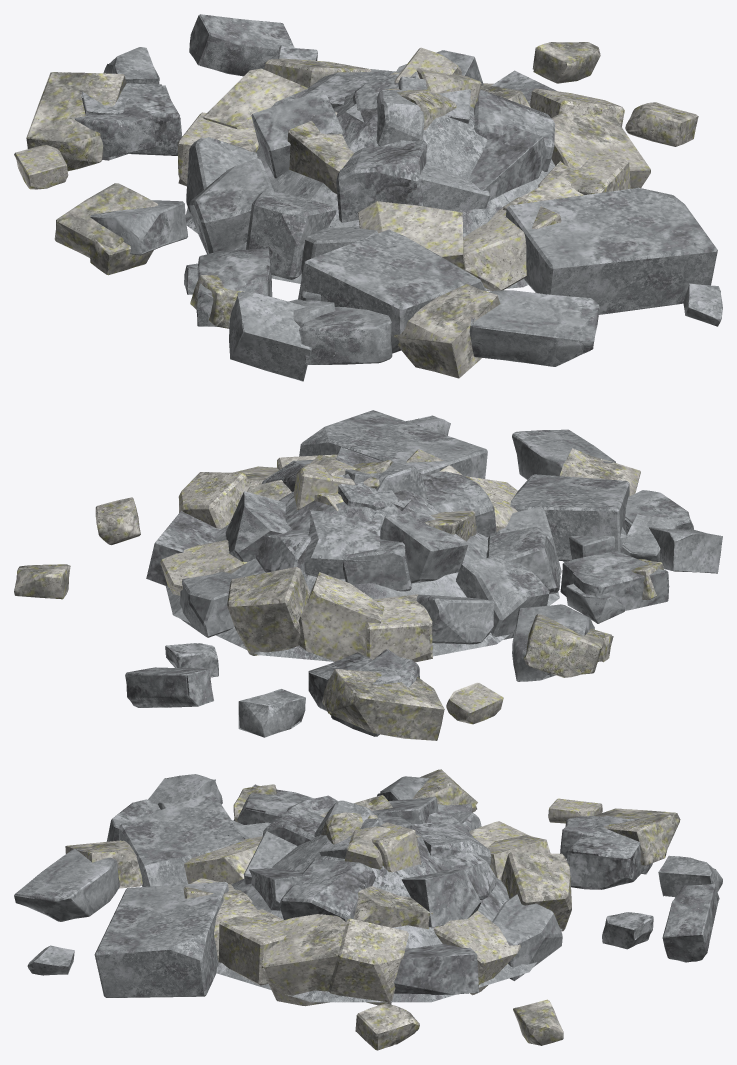
Rendered from cima-gran-eriste.glb.
3 views of the same model, one above another, from view 1: azimuth 30°, elevation 25°; view 2: azimuth 150°, elevation 25°; view 3: azimuth 270°, elevation 25° (orthographic). The views are drawn at different scales.
Parts seen in each view (by area): view 1: hito_granito_gris, hito_granito_liquen, bloque9, bloque10, bloque5, bloque11, bloque14, bloque4, bloque13, bloque16, bloque19, bloque3 (+9 smaller); view 2: hito_granito_gris, hito_granito_liquen, bloque10, bloque19, bloque13, bloque14, bloque9, bloque11, bloque8, bloque16, bloque12, bloque15 (+10 smaller); view 3: hito_granito_gris, hito_granito_liquen, bloque9, bloque3, bloque14, bloque10, bloque20, bloque8, bloque5, bloque12, bloque19, bloque2 (+8 smaller).
Part boxes in pixels (x1=…): hito_granito_gris: x1=185, y1=50, x2=717, y2=353; hito_granito_liquen: x1=177, y1=47, x2=650, y2=290; bloque9: x1=469, y1=290, x2=599, y2=366; bloque10: x1=26, y1=72, x2=126, y2=171; bloque5: x1=393, y1=283, x2=500, y2=378; bloque11: x1=229, y1=291, x2=311, y2=381; bloque14: x1=189, y1=14, x2=294, y2=76; bloque4: x1=299, y1=307, x2=392, y2=365; bloque13: x1=54, y1=183, x2=158, y2=257; bloque16: x1=90, y1=200, x2=187, y2=255; bloque19: x1=196, y1=248, x2=272, y2=326; bloque3: x1=81, y1=83, x2=182, y2=155; hito_granito_gris: x1=146, y1=410, x2=629, y2=661; hito_granito_liquen: x1=160, y1=449, x2=517, y2=662; bloque10: x1=322, y1=669, x2=444, y2=740; bloque19: x1=560, y1=551, x2=669, y2=610; bloque13: x1=523, y1=614, x2=604, y2=677; bloque14: x1=125, y1=667, x2=213, y2=707; bloque9: x1=512, y1=429, x2=615, y2=479; bloque11: x1=649, y1=527, x2=722, y2=573; bloque8: x1=238, y1=689, x2=305, y2=737; bloque16: x1=512, y1=604, x2=594, y2=681; bloque12: x1=14, y1=564, x2=70, y2=599; bloque15: x1=446, y1=682, x2=503, y2=724; hito_granito_gris: x1=94, y1=792, x2=562, y2=1002; hito_granito_liquen: x1=183, y1=795, x2=571, y2=1006; bloque9: x1=14, y1=849, x2=119, y2=921; bloque3: x1=566, y1=815, x2=644, y2=889; bloque14: x1=662, y1=884, x2=719, y2=962; bloque10: x1=594, y1=808, x2=680, y2=865; bloque20: x1=355, y1=1003, x2=419, y2=1050; bloque8: x1=658, y1=855, x2=722, y2=897; bloque5: x1=65, y1=840, x2=142, y2=888; bloque12: x1=513, y1=999, x2=563, y2=1045; bloque19: x1=233, y1=784, x2=314, y2=824; bloque2: x1=602, y1=912, x2=653, y2=949.
Bounding box in the file's own units: 3.34 × 0.8031 × 3.98.
Materials: 2 (2 with a texture image).
